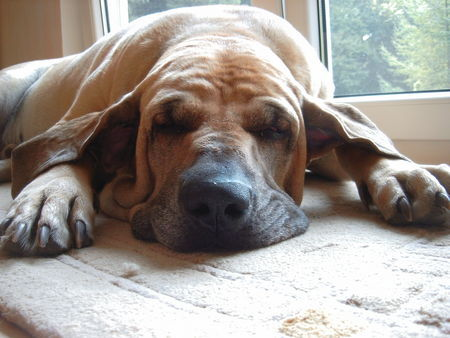fila_brasileiro: (0, 5, 450, 255)
